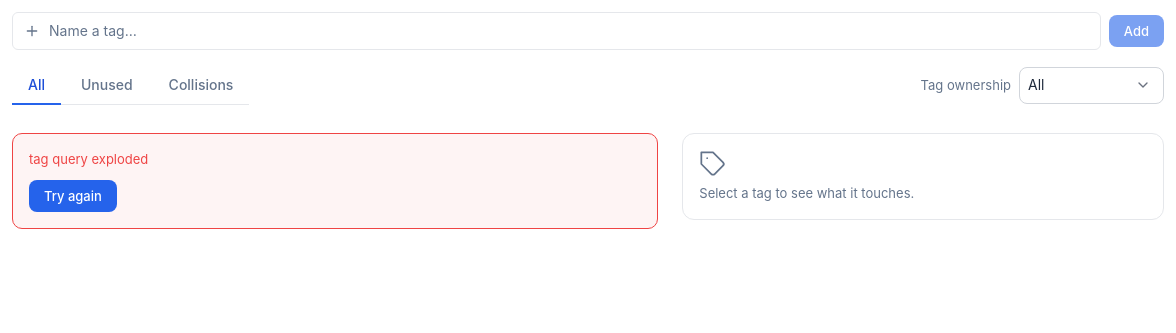
Test: tag manager modal › renders an error with retry — never the empty state — when the fetch fails
The image size is (1176, 333).
Expected: the message "tag query exploded Try again" is shown, [12, 133, 658, 228]
Expected: the text "tag query exploded" is shown, [29, 150, 148, 170]
Click the button "Try again": [73, 196] box [29, 180, 117, 212]
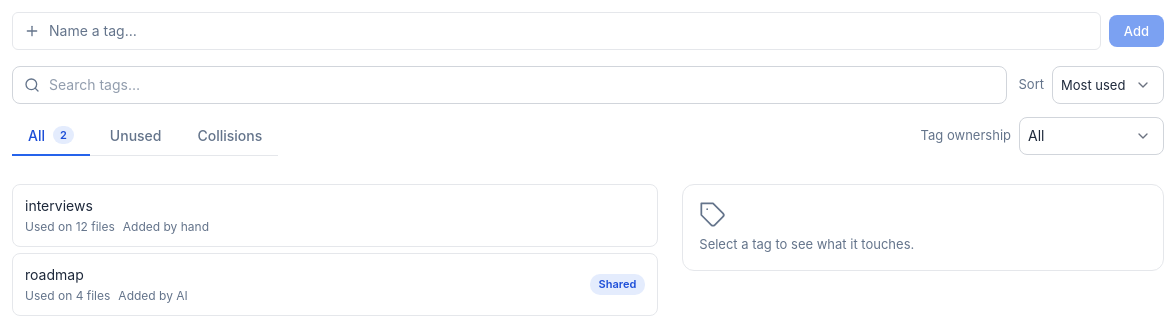
Now the number of options is 2, box [12, 184, 658, 247]; [12, 253, 658, 316]
Now the message "tag query exploded Try again" is gone
